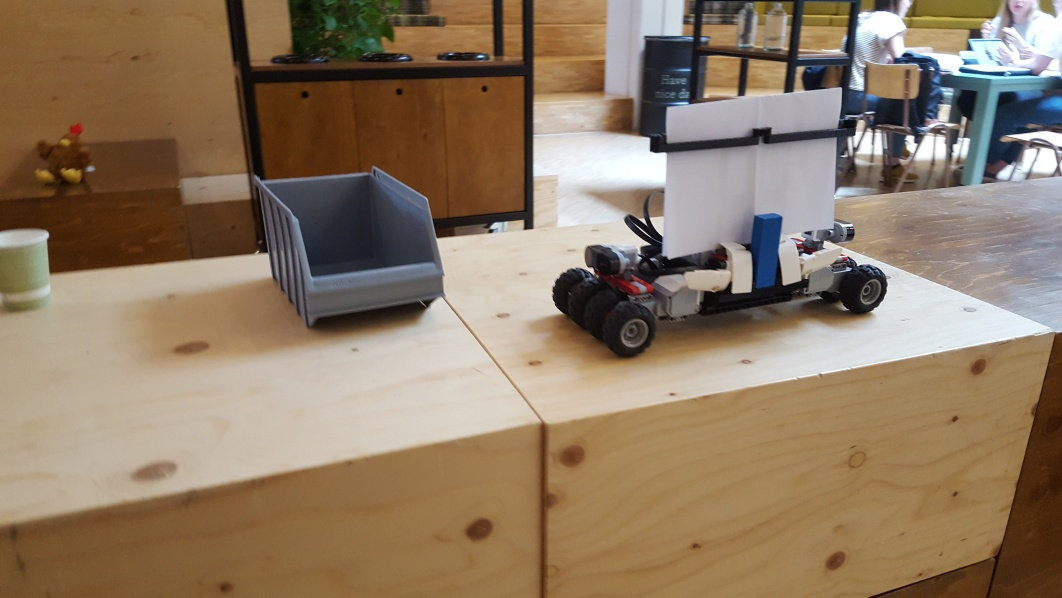car: (553, 87, 887, 356)
chicken: (33, 124, 96, 185)
cup: (1, 226, 52, 318)
tray: (250, 166, 450, 326)
